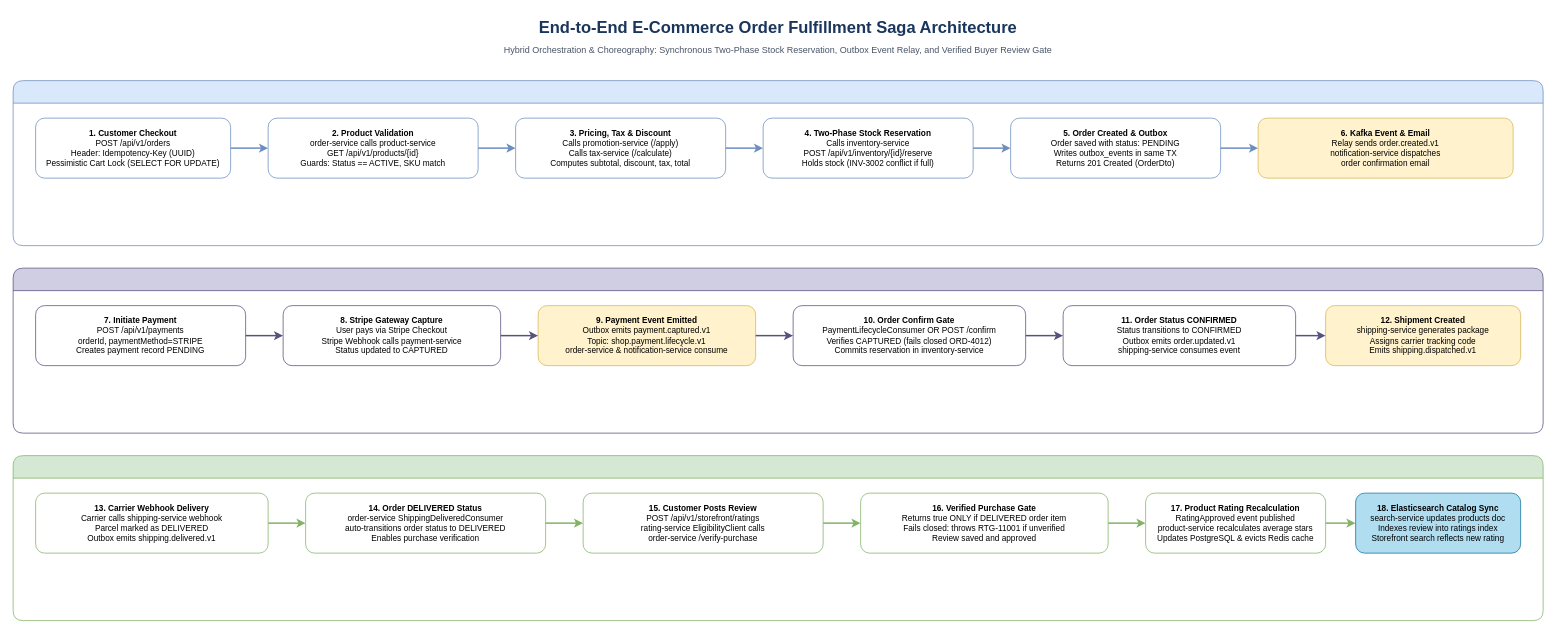
Some shapes in this 1556 by 634 pixel diagram are drawn without their labels. The box of each missing label's shape, as (x1, y1, x2, y2) in pixels:
Phase 1: Synchronous Checkout & Two-Phase Inventory Reservation: (12, 80, 1543, 246)
Phase 2: Payment Processing & Commit Coordinator: (12, 267, 1543, 433)
Phase 3: Delivery Completion, Verified Buyer Review Gate & Search Sync: (12, 455, 1543, 621)
